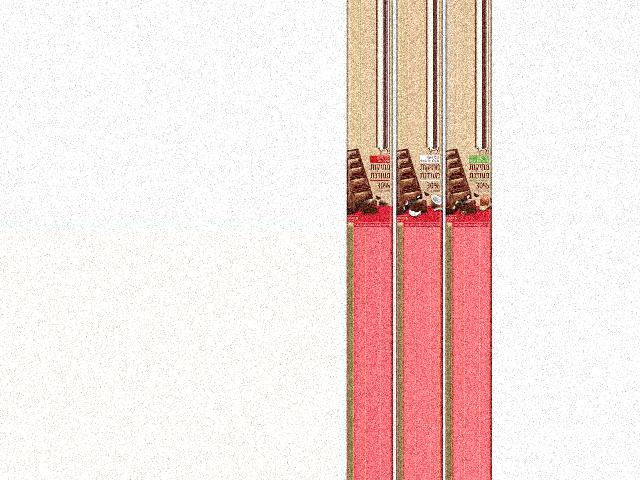chocolate: (446, 148, 493, 228)
